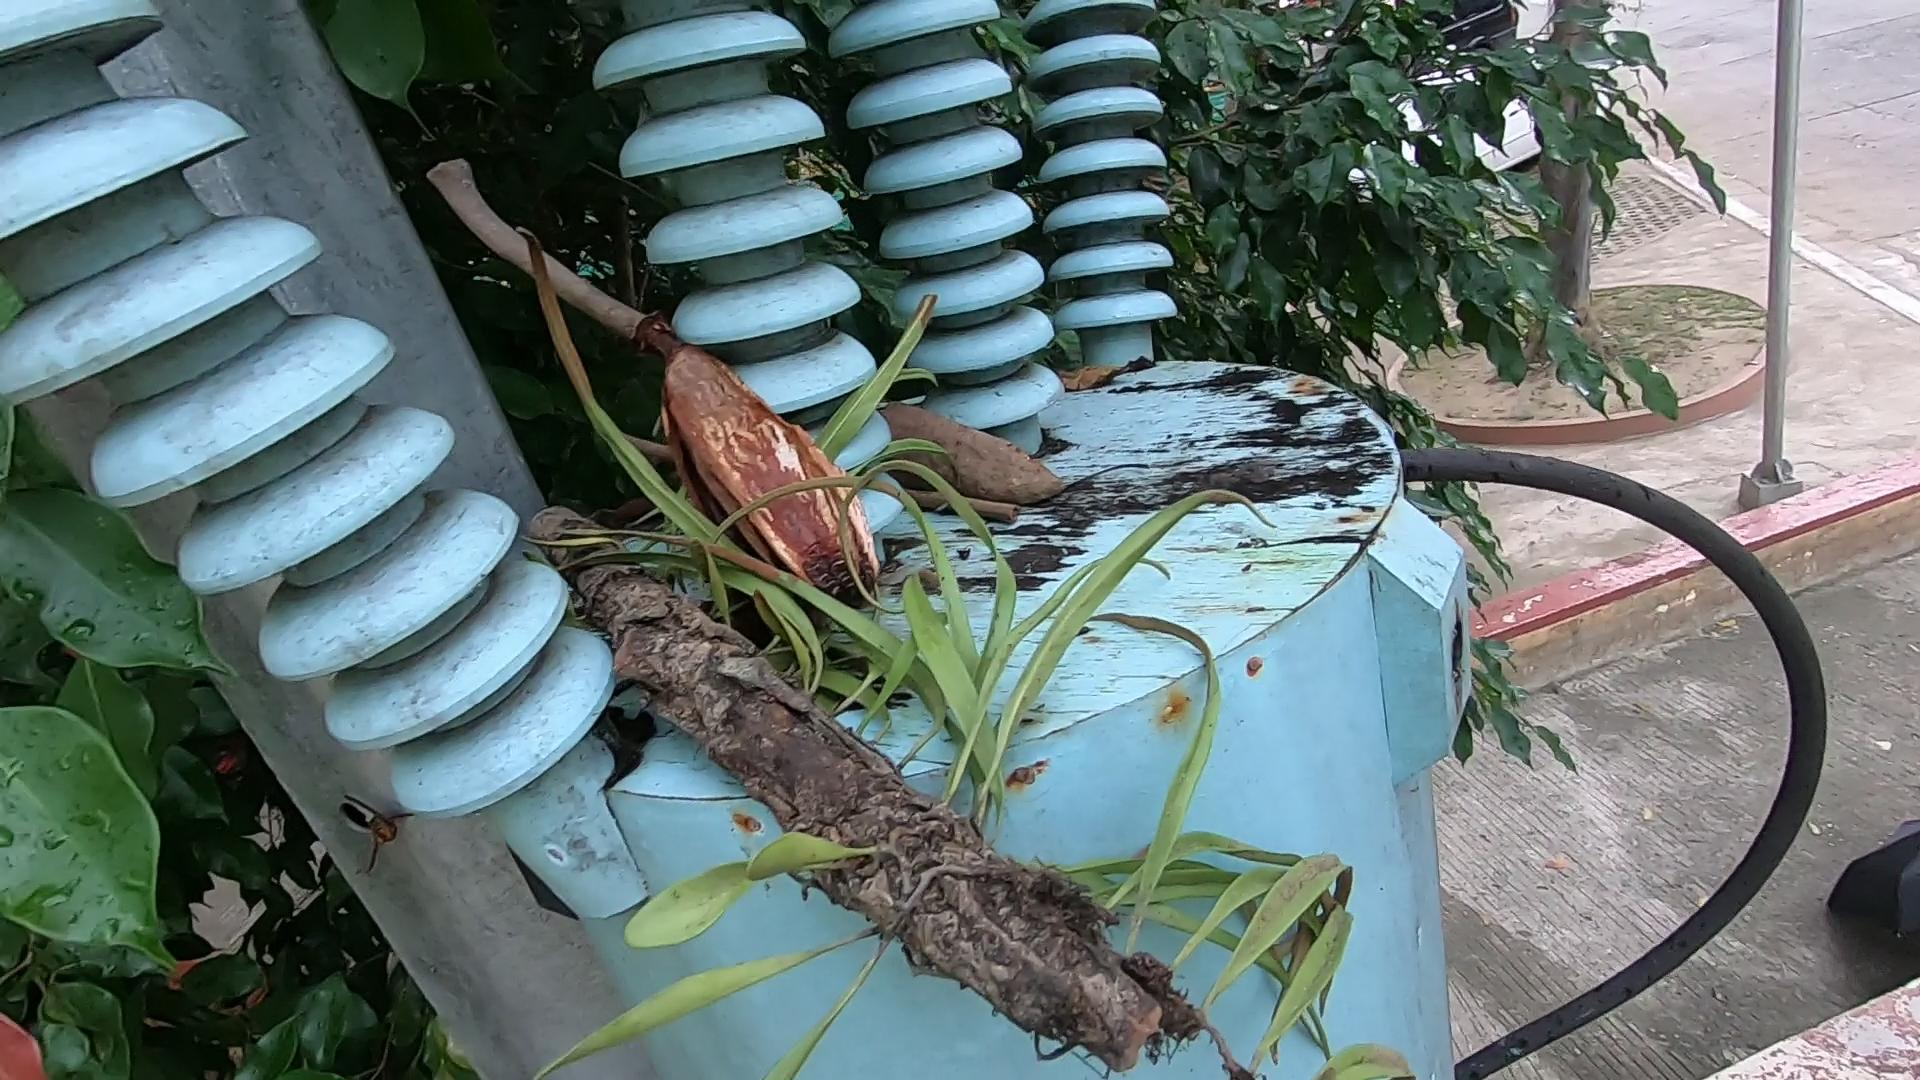leaf: (582, 518, 1240, 1080), (1039, 349, 1166, 392)
mahogany fruit: (562, 311, 899, 624), (891, 365, 1083, 527)
tree branch: (419, 140, 653, 348), (909, 477, 1021, 535)
